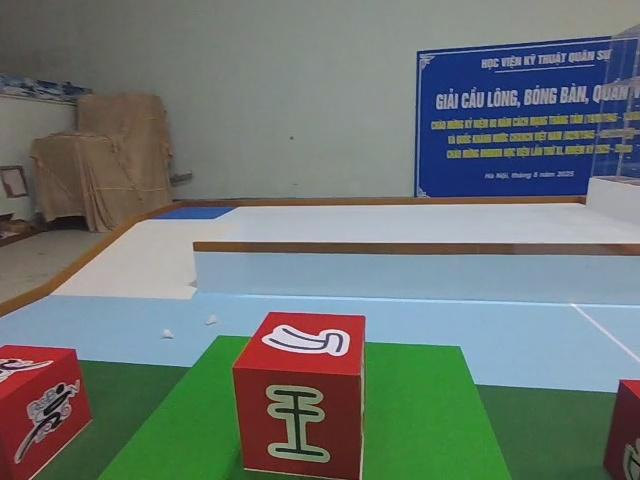R1: (0, 337, 93, 480)
R2 Fake: (232, 307, 369, 480)
